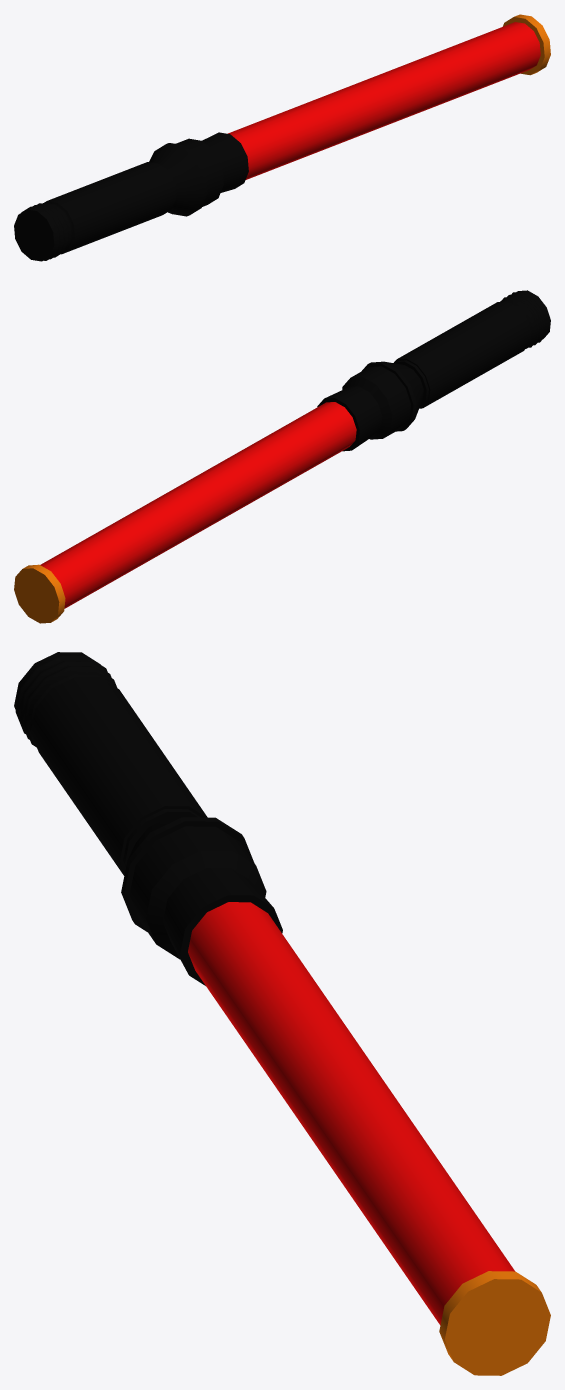
File: WEAPON_LOW_THROW.fbx
The picture shows the model from 3 angles, top to bottom: view 1: azimuth 30°, elevation 25°; view 2: azimuth 210°, elevation 25°; view 3: azimuth 270°, elevation 25°; orthographic projection. The views are drawn at different scales.
Visible parts, largest first — view 1: WEAPON1; view 2: WEAPON1; view 3: WEAPON1.
Boxes of the visible parts, bbox=[...] form: WEAPON1: bbox=[14, 14, 550, 261]; WEAPON1: bbox=[14, 290, 550, 623]; WEAPON1: bbox=[14, 652, 550, 1375].
Bounding box in the file's own units: 9.64 × 1.43 × 3.88.
